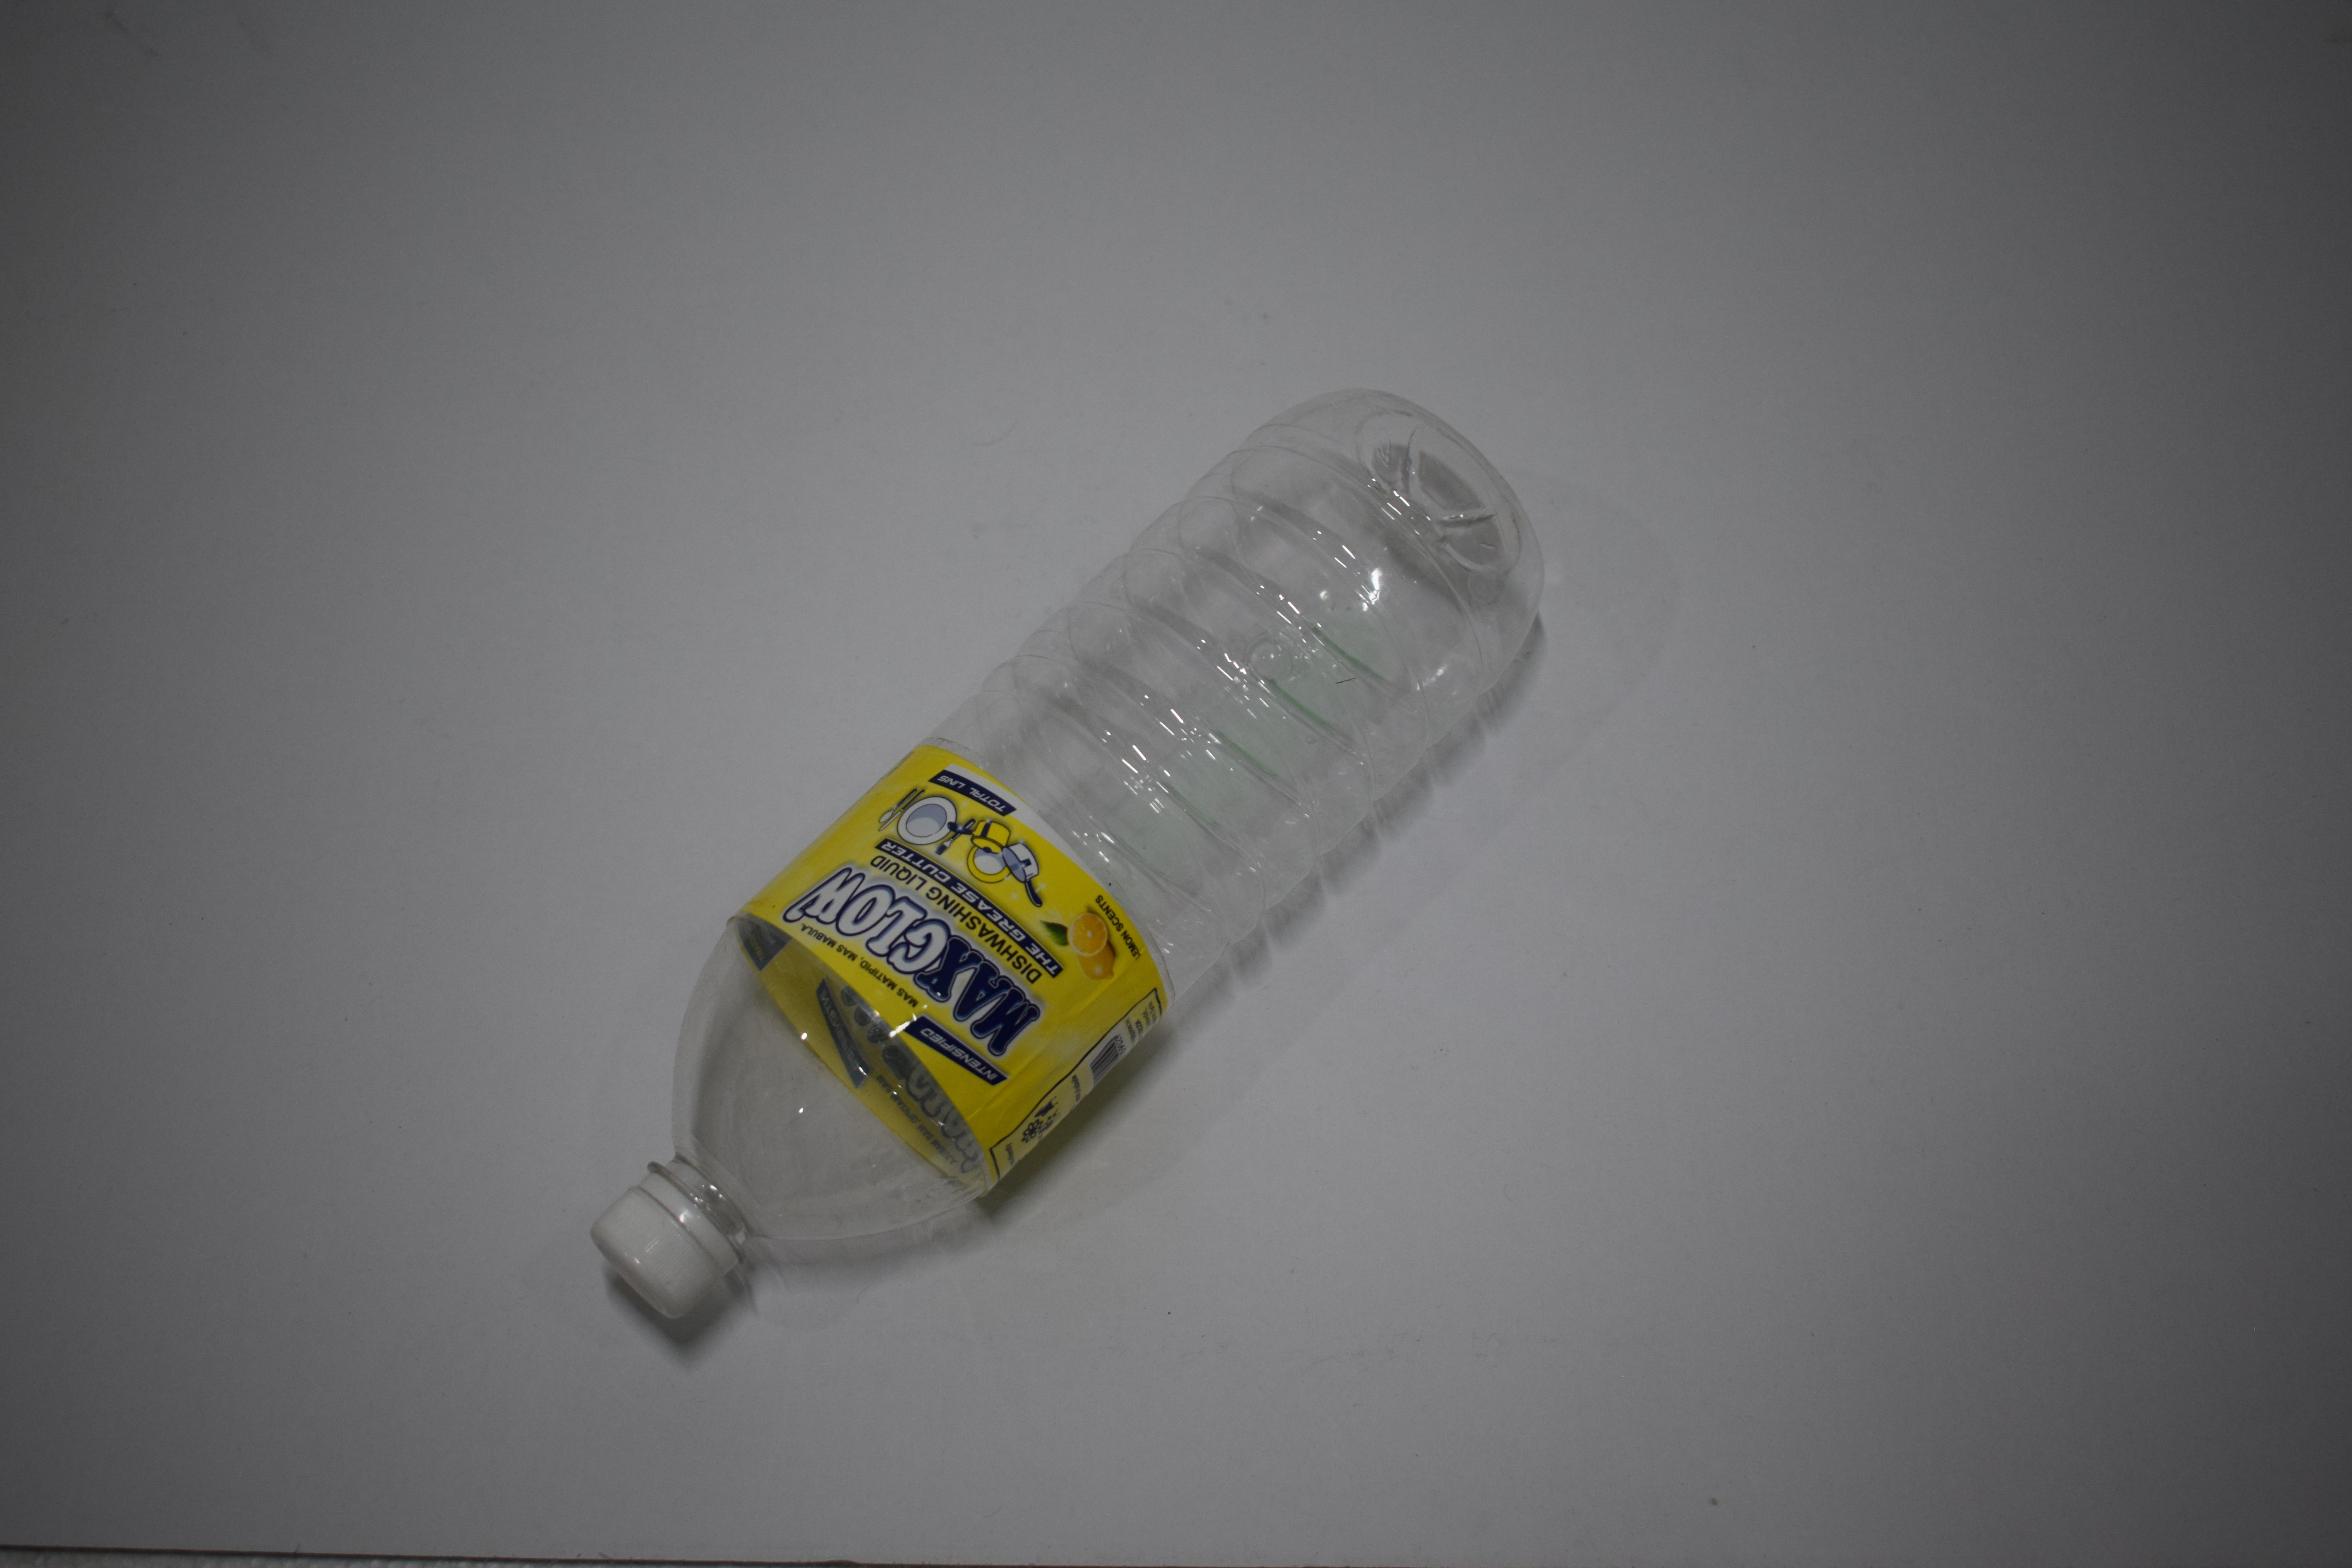bottle: (467, 0, 1431, 544)
